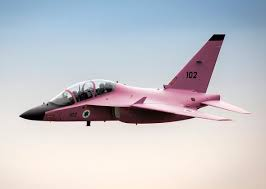fighter: (18, 29, 252, 128)
